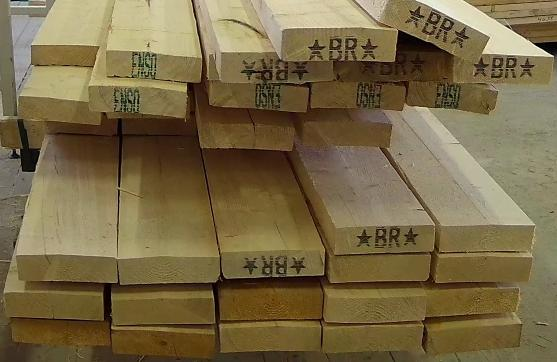Wood-Plank: (380, 0, 492, 66), (112, 286, 216, 326), (333, 49, 454, 83), (425, 319, 523, 354), (106, 48, 204, 83), (281, 29, 395, 59), (432, 251, 534, 284), (220, 321, 322, 354), (323, 322, 425, 354), (426, 284, 521, 318), (219, 52, 333, 80), (91, 84, 187, 117), (111, 328, 216, 358), (454, 53, 549, 86), (206, 82, 310, 112), (219, 289, 322, 319), (326, 294, 425, 324), (409, 82, 500, 114), (331, 253, 428, 283), (17, 253, 115, 282), (117, 256, 219, 283), (438, 221, 536, 248), (334, 224, 431, 251), (10, 321, 111, 346), (312, 83, 407, 109), (17, 95, 102, 124), (221, 252, 326, 275), (201, 124, 297, 149), (7, 293, 101, 318), (304, 120, 391, 147), (28, 43, 101, 67), (123, 113, 197, 135), (46, 114, 118, 136)
